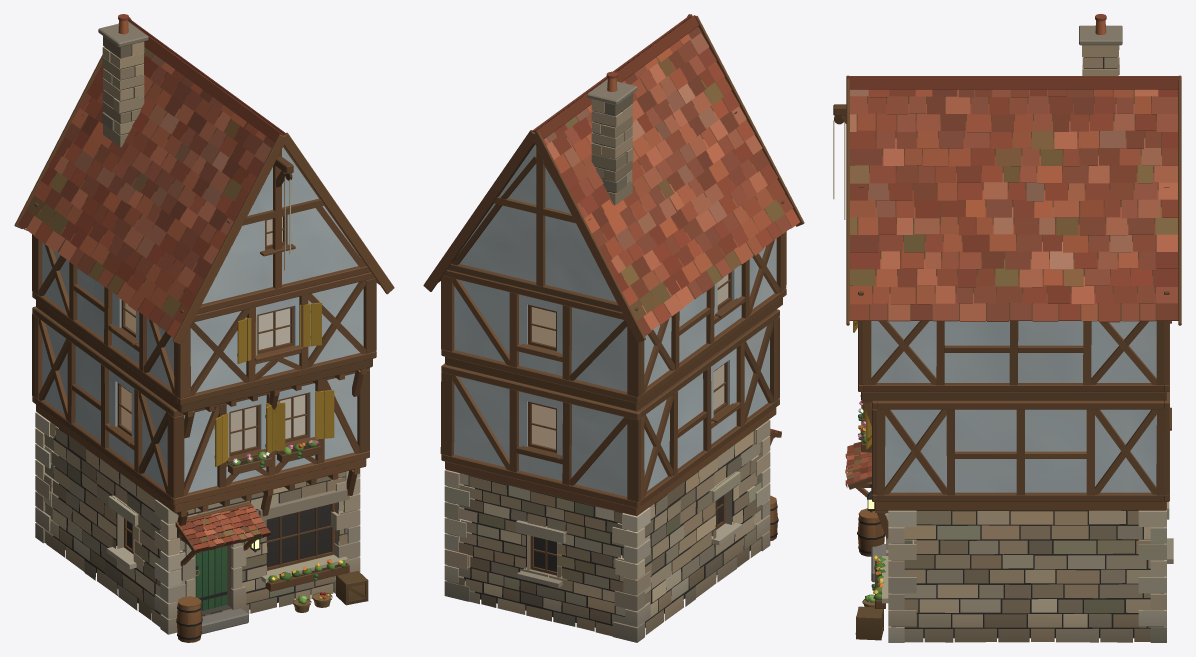
File: village_house_d_2.glb
The picture shows the model from 3 angles, left to right: view 1: azimuth 30°, elevation 25°; view 2: azimuth 150°, elevation 25°; view 3: azimuth 270°, elevation 25°; orthographic projection. The views are drawn at different scales.
Parts seen in each view (by area): view 1: VillageHouseD_2; view 2: VillageHouseD_2; view 3: VillageHouseD_2.
Part boxes in pixels (<box>): VillageHouseD_2: <box>14,14,394,642</box>; VillageHouseD_2: <box>423,14,804,642</box>; VillageHouseD_2: <box>833,14,1181,642</box>.
Size of the model in its own units: 5.87 by 13.46 by 7.62.
